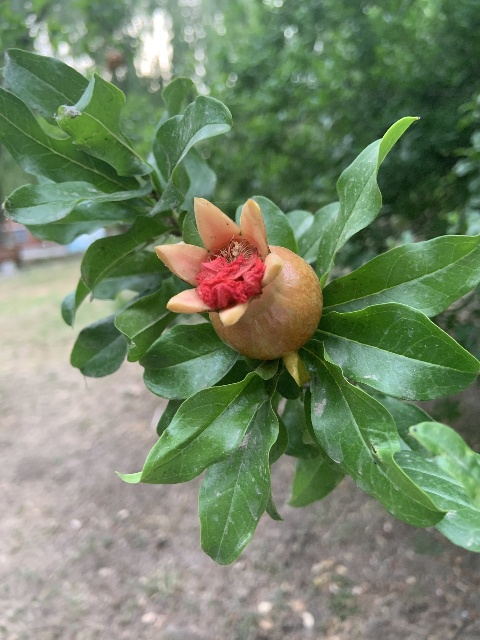early-fruit: (155, 196, 322, 360)
